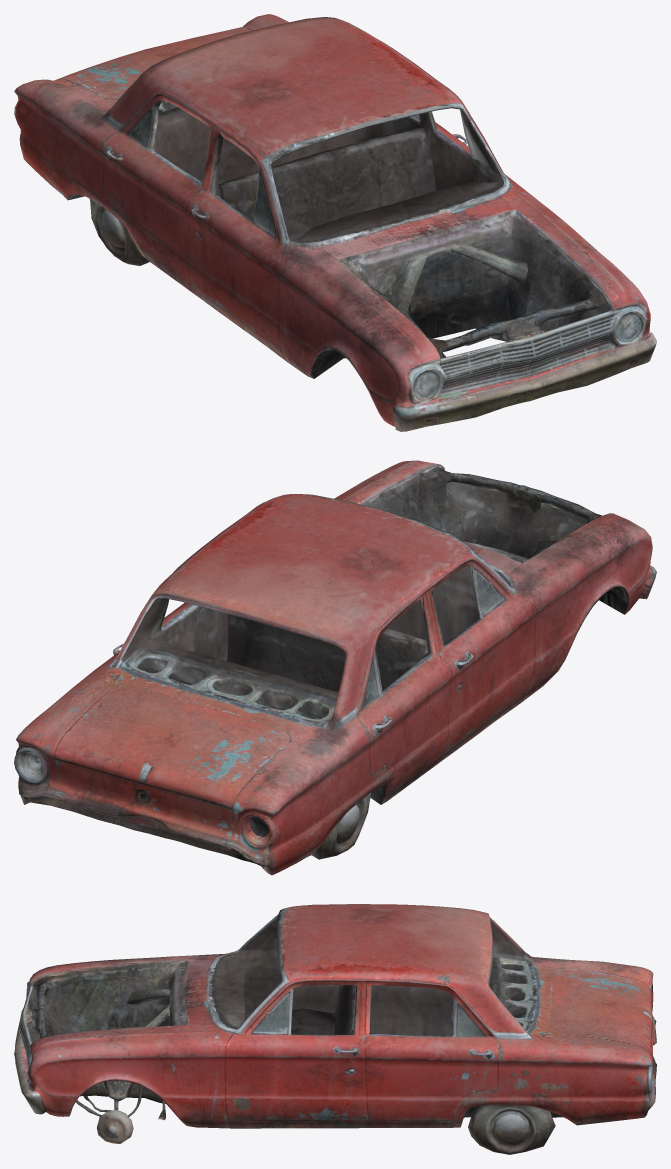
Rendered from destroyed_car.glb.
The picture shows the model from 3 angles, top to bottom: view 1: azimuth 30°, elevation 25°; view 2: azimuth 150°, elevation 25°; view 3: azimuth 270°, elevation 25°; orthographic projection. The views are drawn at different scales.
Visible parts, largest first — view 1: Plane_0; view 2: Plane_0; view 3: Plane_0.
Boxes of the visible parts, left/top/right/bottom form: Plane_0: left=14, top=14, right=656, bottom=431; Plane_0: left=14, top=460, right=656, bottom=875; Plane_0: left=14, top=904, right=656, bottom=1154.
Size of the model in its own units: 11.91 by 9.05 by 30.07.
Materials: 1 (1 with a texture image).
